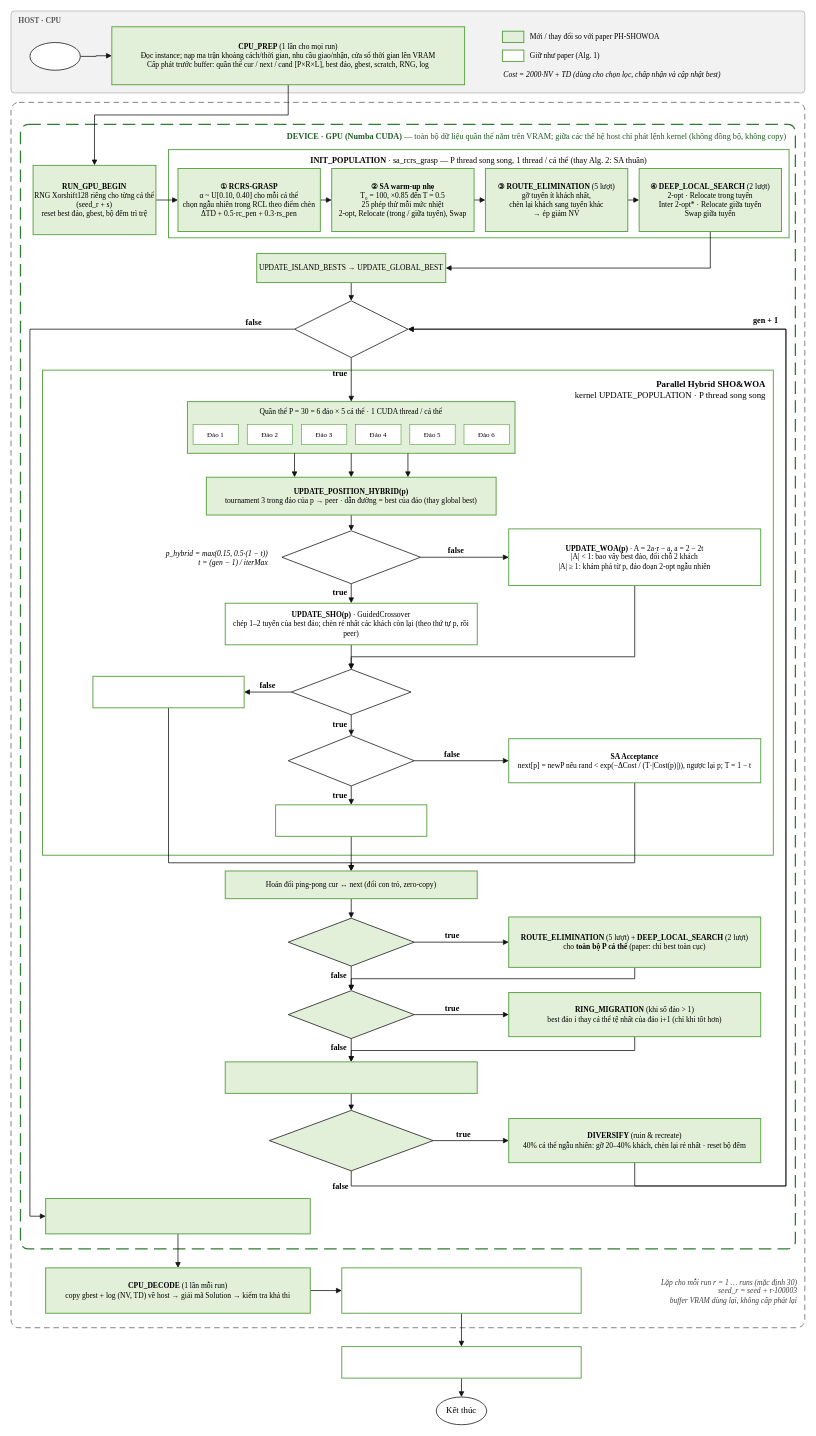
Image size: 816x1436. Some labels were removed from this diagram. Each missing label, with the centre of its shape:
"Accepted next[p] = newP" belongs at (x=351, y=820).
"bestSolution (tốt nhất qua mọi run)" belongs at (x=461, y=1362).
"Bắt đầu" belongs at (x=54, y=56).
"Cập nhật best_s qua các run (NV ít hơn, hoặc cùng NV và Cost thấp hơn)" belongs at (x=461, y=1290).
"gbest không cải thiện ≥ 50 thế hệ ?" belongs at (x=351, y=1140).
"gen mod 20 = 0 ?" belongs at (x=351, y=1014).
"gen mod 25 = 0 ?" belongs at (x=351, y=942).
"gen ≤ iterMax ?" belongs at (x=351, y=329).
"newP khả thi ?" belongs at (x=351, y=692).
"next[p] = p (giữ nghiệm hiện tại)" belongs at (x=168, y=692).
"rand < p_hybrid ?" belongs at (x=351, y=557).
"RUN_GPU_END cuda.synchronize() 1 lần mỗi run" belongs at (x=177, y=1216).
"UPDATE_ISLAND_BESTS → UPDATE_GLOBAL_BEST ghi log (NV, TD) của gbest vào VRAM" belongs at (x=350, y=1077).
"ΔCost ≤ 0 ?" belongs at (x=351, y=760).
